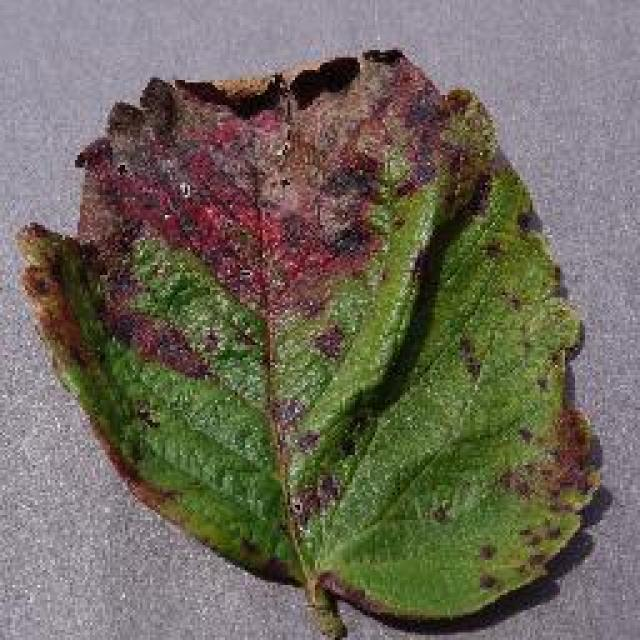Strawberry leaf scorch: (142, 90, 423, 378)
